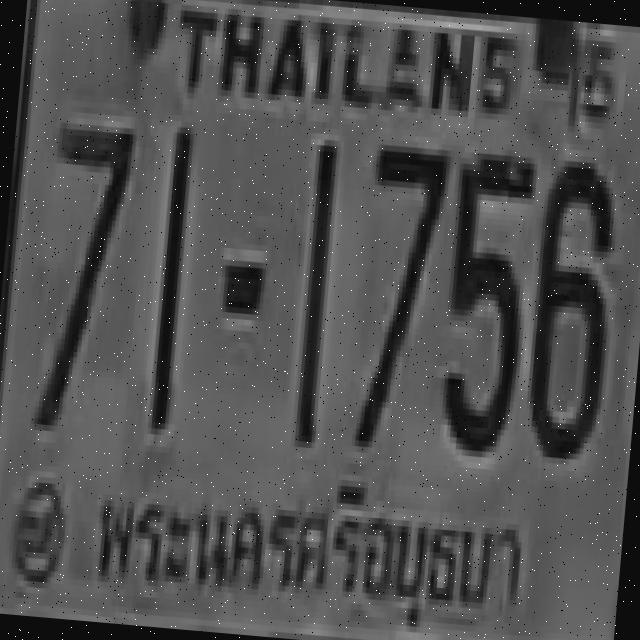1: (290, 136, 338, 445), (146, 120, 192, 423)
5: (432, 142, 535, 450)
6: (520, 153, 618, 454)
7: (30, 113, 134, 427), (348, 137, 448, 446), (36, 113, 134, 357)
Ayutthaya: (79, 445, 536, 640)
